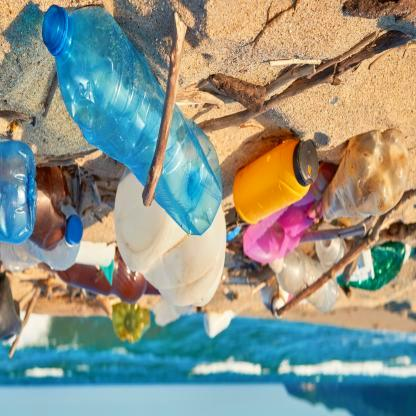Plastic: (35, 2, 225, 229), (109, 172, 227, 307), (318, 132, 415, 227), (232, 135, 325, 234), (58, 252, 166, 305), (0, 217, 90, 273), (269, 249, 345, 315), (333, 239, 416, 291), (0, 144, 35, 250)
